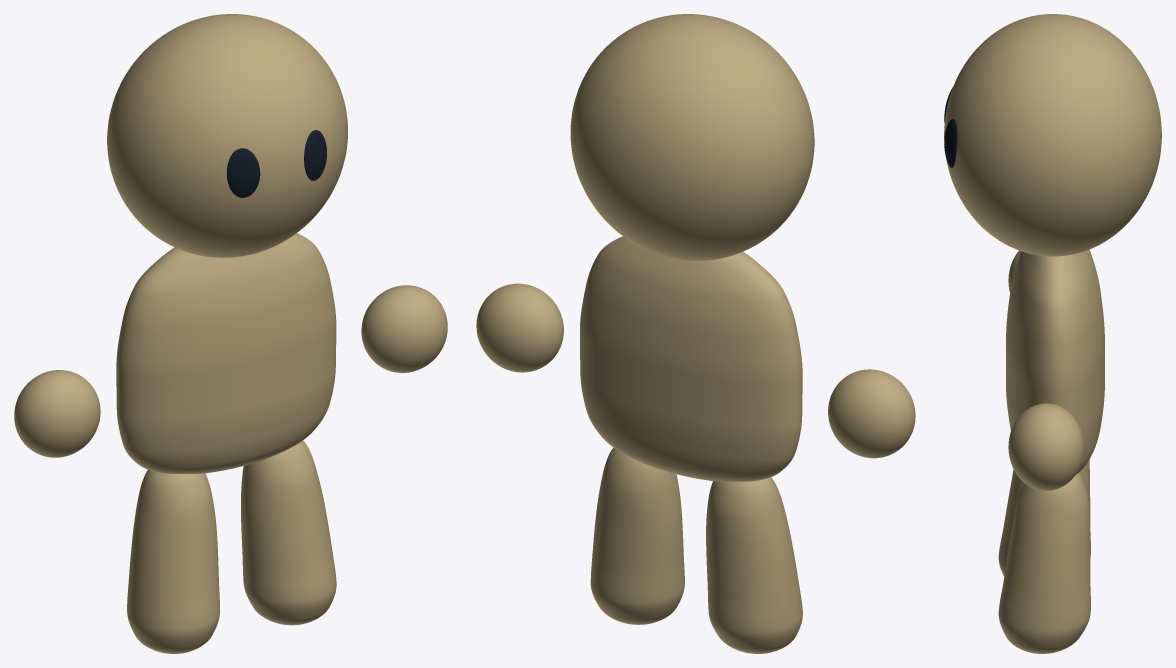
File: Masculine-skin1.glb
3 views of the same model, side by side, from view 1: azimuth 30°, elevation 25°; view 2: azimuth 150°, elevation 25°; view 3: azimuth 270°, elevation 25° (orthographic). The views are drawn at different scales.
Parts seen in each view (by area): view 1: Round head, Rounded torso, Left leg blob, Right leg blob, Left round hand, Right round hand, Left optional eye, Right optional eye; view 2: Round head, Rounded torso, Left leg blob, Right leg blob, Left round hand, Right round hand; view 3: Round head, Rounded torso, Right leg blob, Right round hand, Left leg blob, Right optional eye.
Boxes of the visible parts, left/top/right/bottom form: Round head: left=107, top=14, right=347, bottom=257; Rounded torso: left=116, top=233, right=336, bottom=473; Left leg blob: left=127, top=469, right=219, bottom=653; Right leg blob: left=241, top=440, right=336, bottom=625; Left round hand: left=14, top=370, right=100, bottom=457; Right round hand: left=361, top=285, right=447, bottom=372; Left optional eye: left=226, top=148, right=260, bottom=197; Right optional eye: left=304, top=130, right=326, bottom=180; Round head: left=570, top=14, right=814, bottom=260; Rounded torso: left=580, top=236, right=802, bottom=481; Left leg blob: left=706, top=477, right=802, bottom=653; Right leg blob: left=590, top=447, right=684, bottom=624; Left round hand: left=828, top=369, right=915, bottom=458; Right round hand: left=476, top=283, right=563, bottom=372; Round head: left=944, top=14, right=1161, bottom=256; Rounded torso: left=1006, top=249, right=1104, bottom=474; Right leg blob: left=998, top=473, right=1090, bottom=653; Right round hand: left=1008, top=403, right=1084, bottom=490; Left leg blob: left=998, top=460, right=1090, bottom=576; Right optional eye: left=944, top=119, right=957, bottom=167.
Size of the model in its own units: 1.94 by 2.65 by 0.88.
